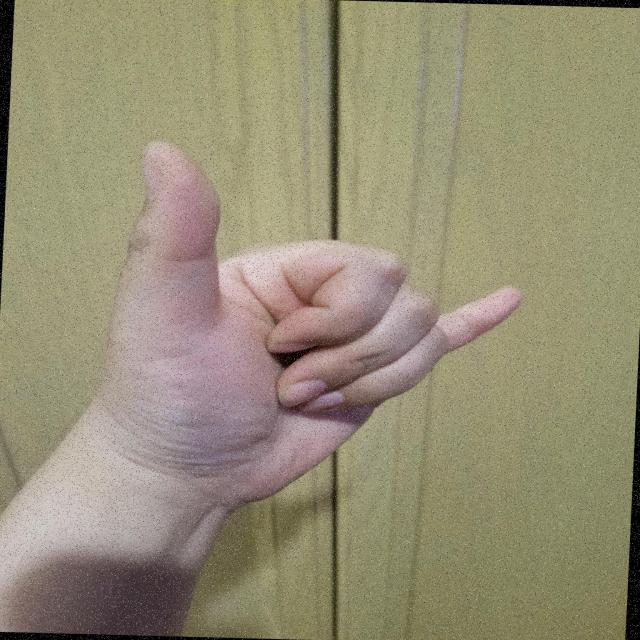Y: (87, 132, 535, 524)
